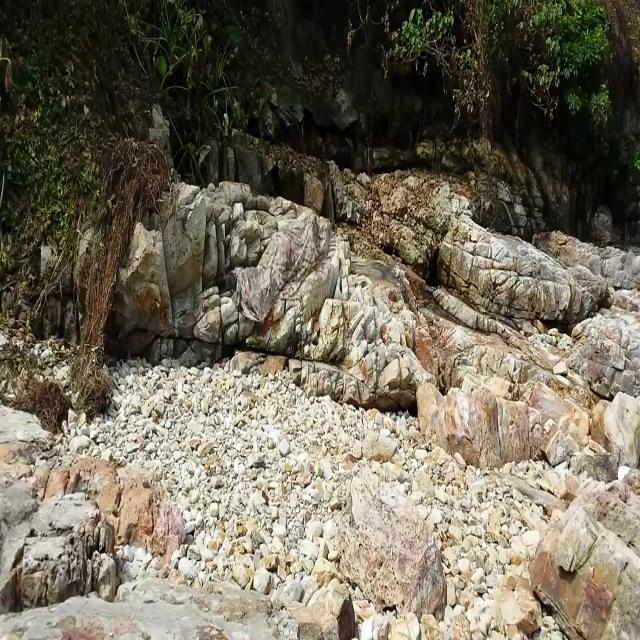Camouflage: (234, 208, 323, 324)
